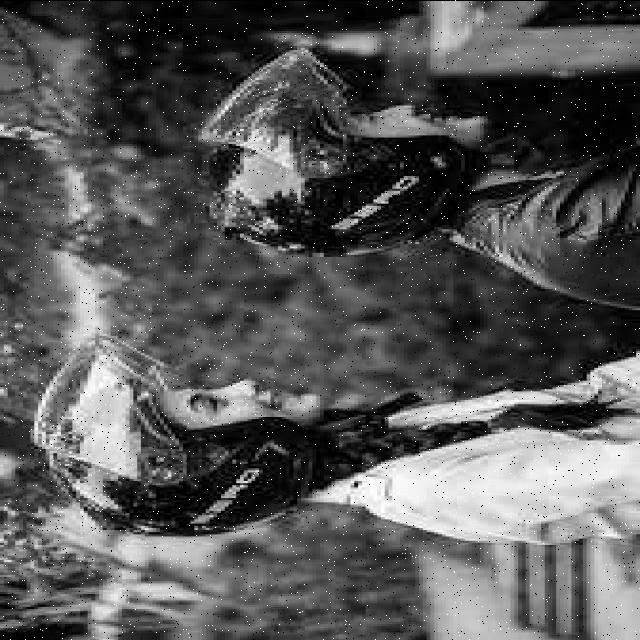Helmet: (197, 44, 483, 264), (32, 338, 338, 538)
